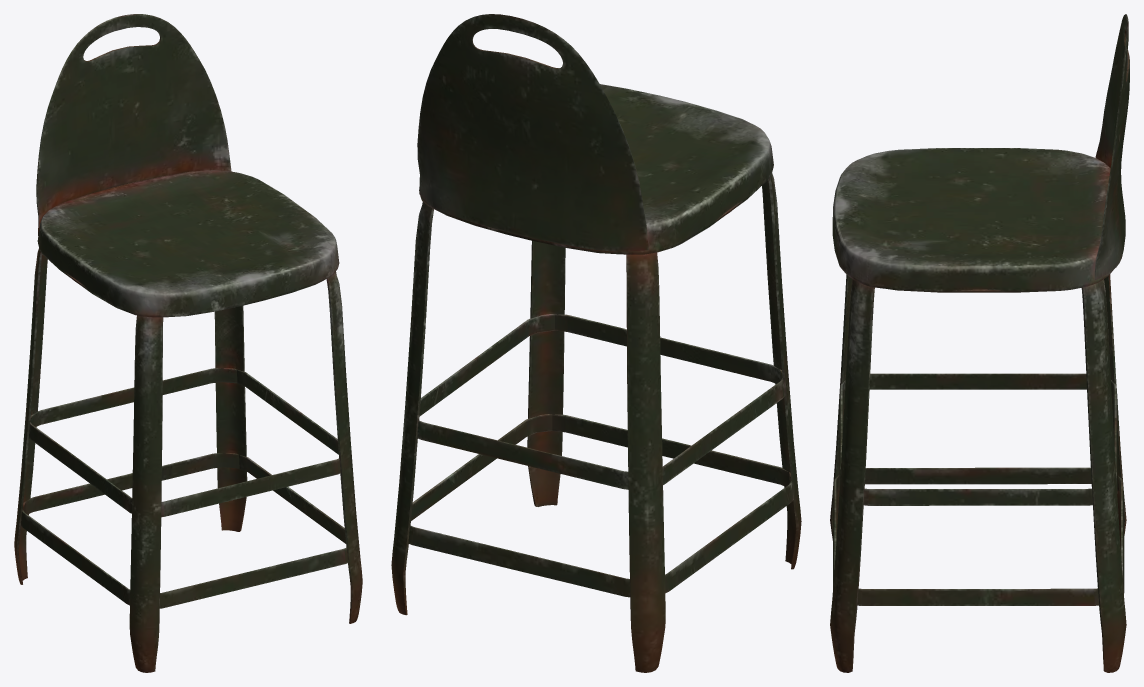
The model's file is ph-metal_stool_03.glb.
3 renders of one model, left to right at view 1: azimuth 30°, elevation 25°; view 2: azimuth 150°, elevation 25°; view 3: azimuth 270°, elevation 25°, orthographic. The views are drawn at different scales.
Visible parts, largest first — view 1: metal_stool_03; view 2: metal_stool_03; view 3: metal_stool_03.
Boxes of the visible parts, left/top/right/bottom form: metal_stool_03: left=14, top=14, right=362, bottom=672; metal_stool_03: left=391, top=14, right=801, bottom=672; metal_stool_03: left=830, top=14, right=1129, bottom=672.
Bounding box in the file's own units: 0.4502 × 1 × 0.46.
1 material, 1 textured.
